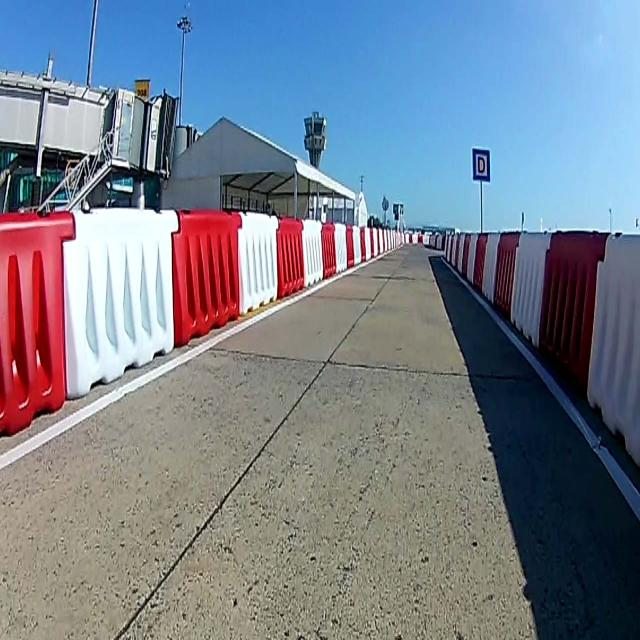durak: (474, 148, 490, 183)
